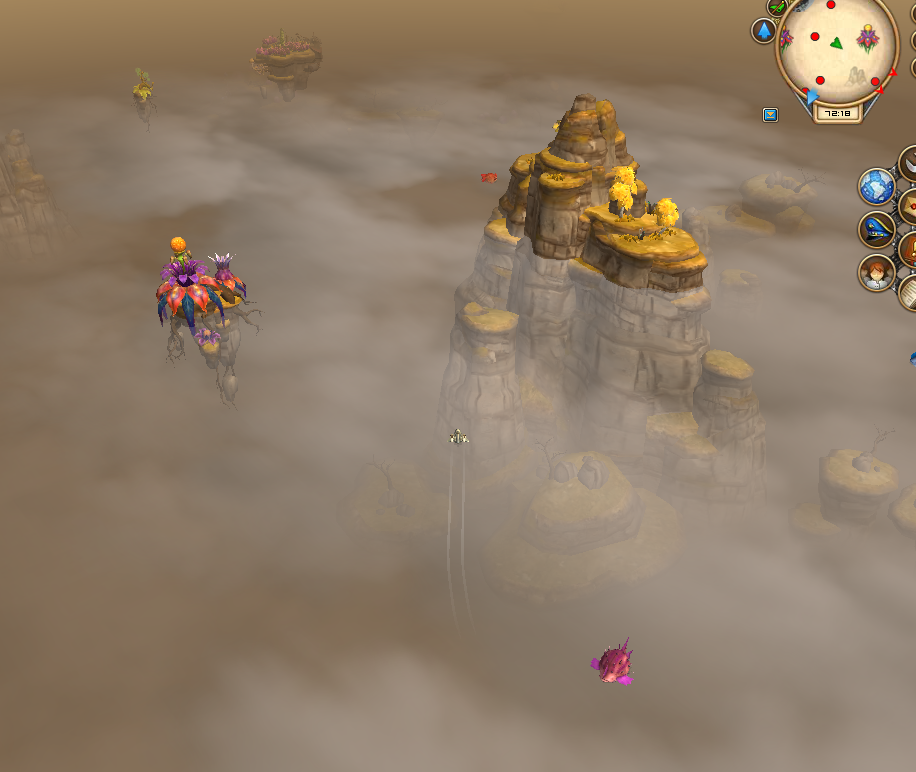dandelion-full: (128, 64, 161, 127)
